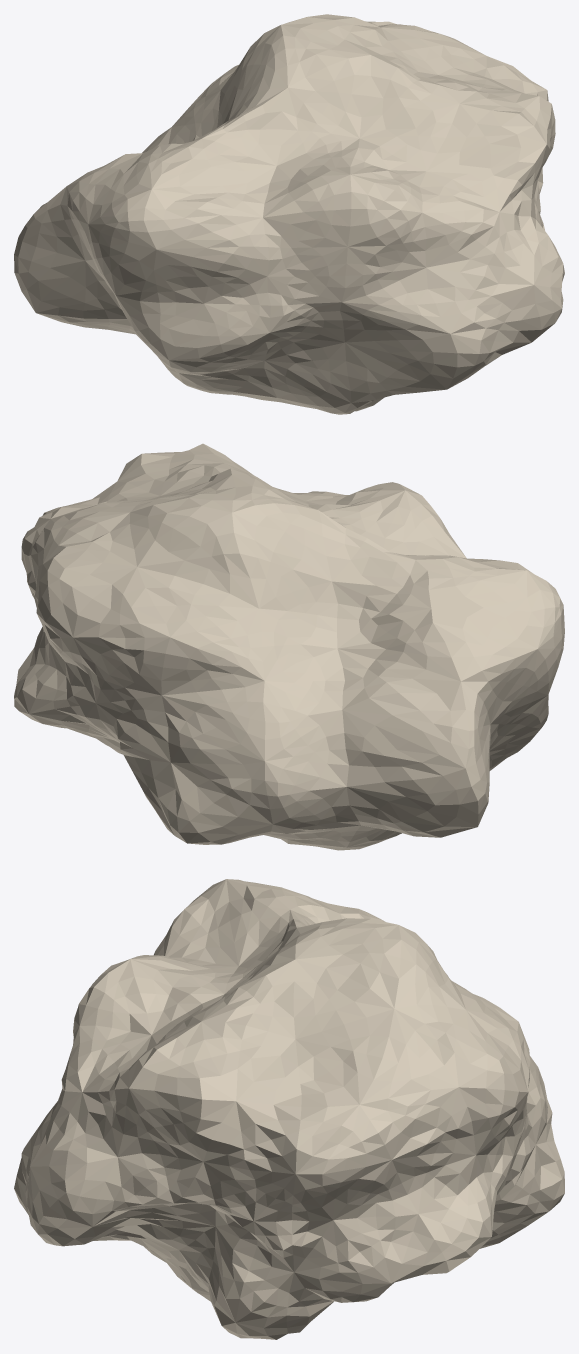
Rendered from Astroid 2.fbx.
3 views of the same model, one above another, from view 1: azimuth 30°, elevation 25°; view 2: azimuth 150°, elevation 25°; view 3: azimuth 270°, elevation 25° (orthographic). The views are drawn at different scales.
Parts seen in each view (by area): view 1: Subdivision_Surface; view 2: Subdivision_Surface; view 3: Subdivision_Surface.
Part boxes in pixels (x1=…): Subdivision_Surface: x1=14, y1=14, x2=564, y2=414; Subdivision_Surface: x1=14, y1=443, x2=564, y2=850; Subdivision_Surface: x1=14, y1=879, x2=564, y2=1339.
Size of the model in its own units: 226 by 152 by 196.
